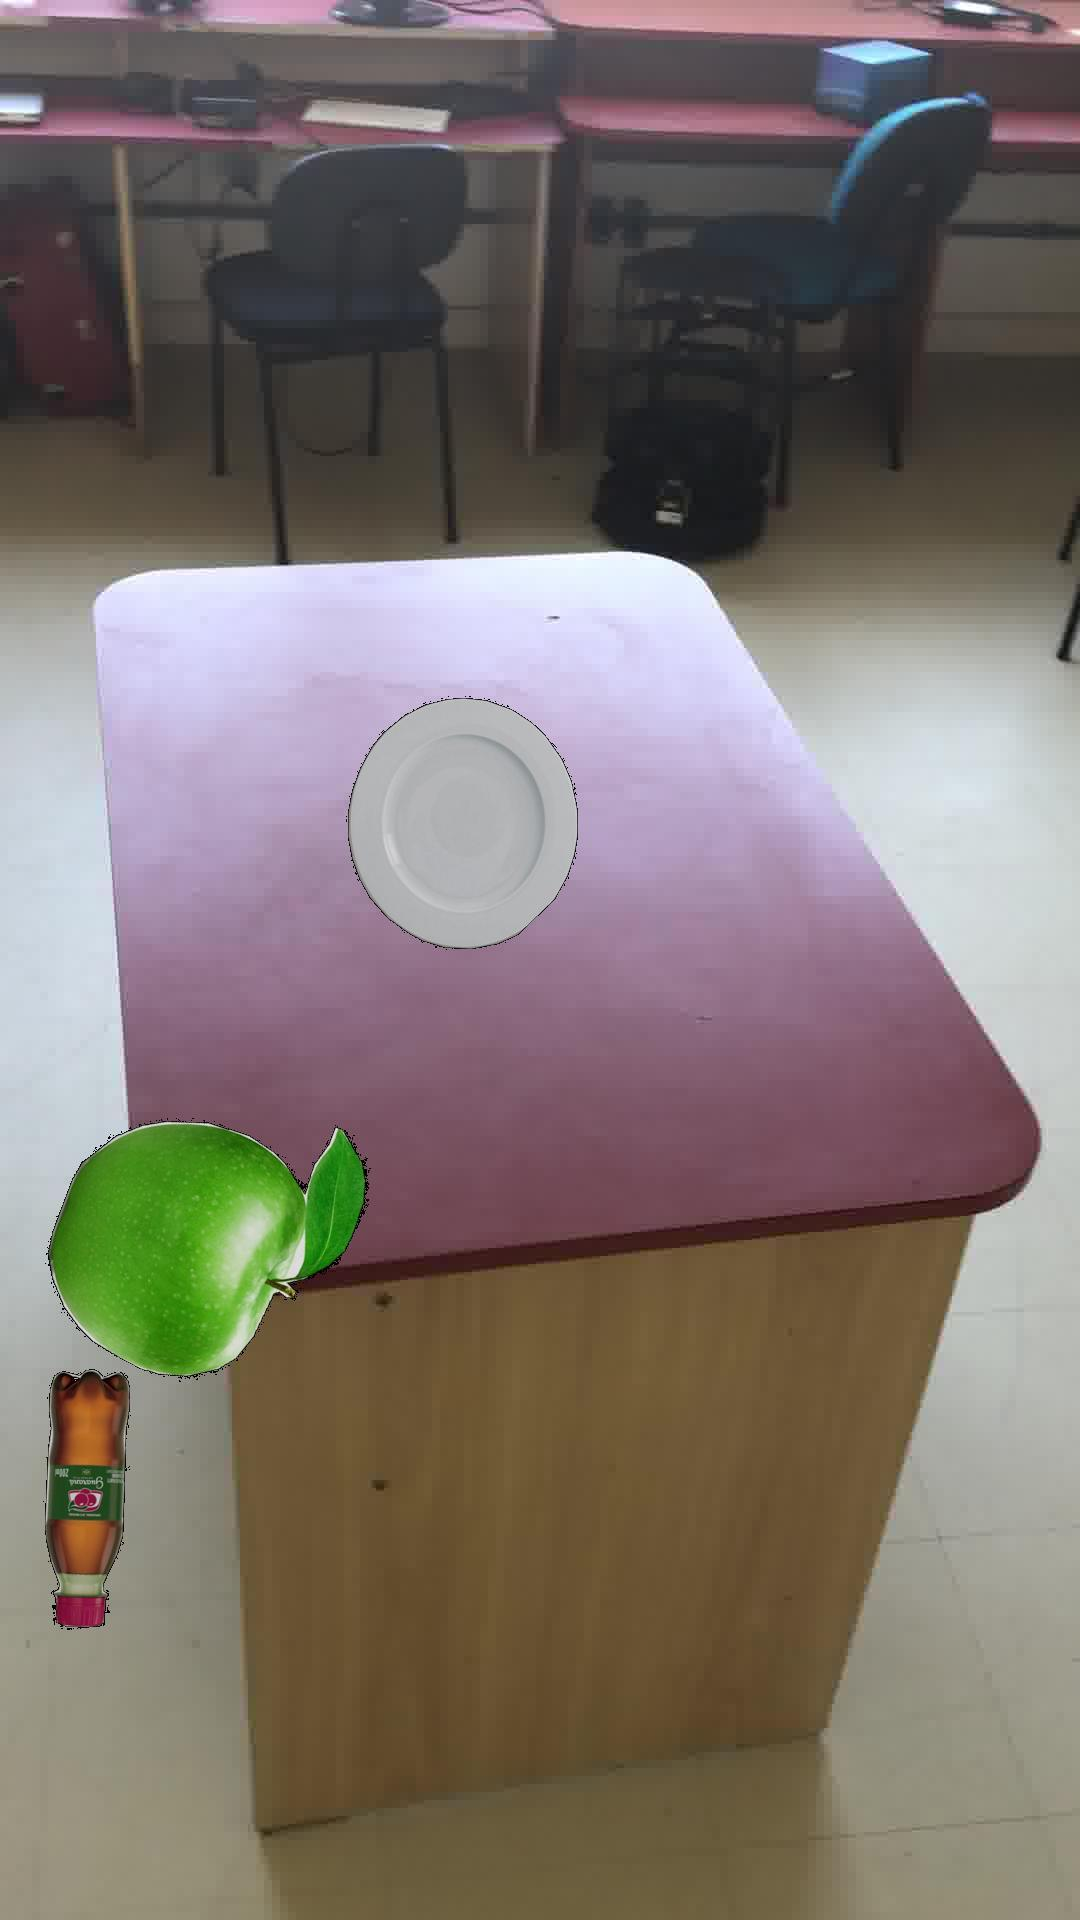green apple: (45, 1118, 368, 1378)
guarana: (44, 1367, 128, 1627)
plate: (347, 696, 576, 948)
